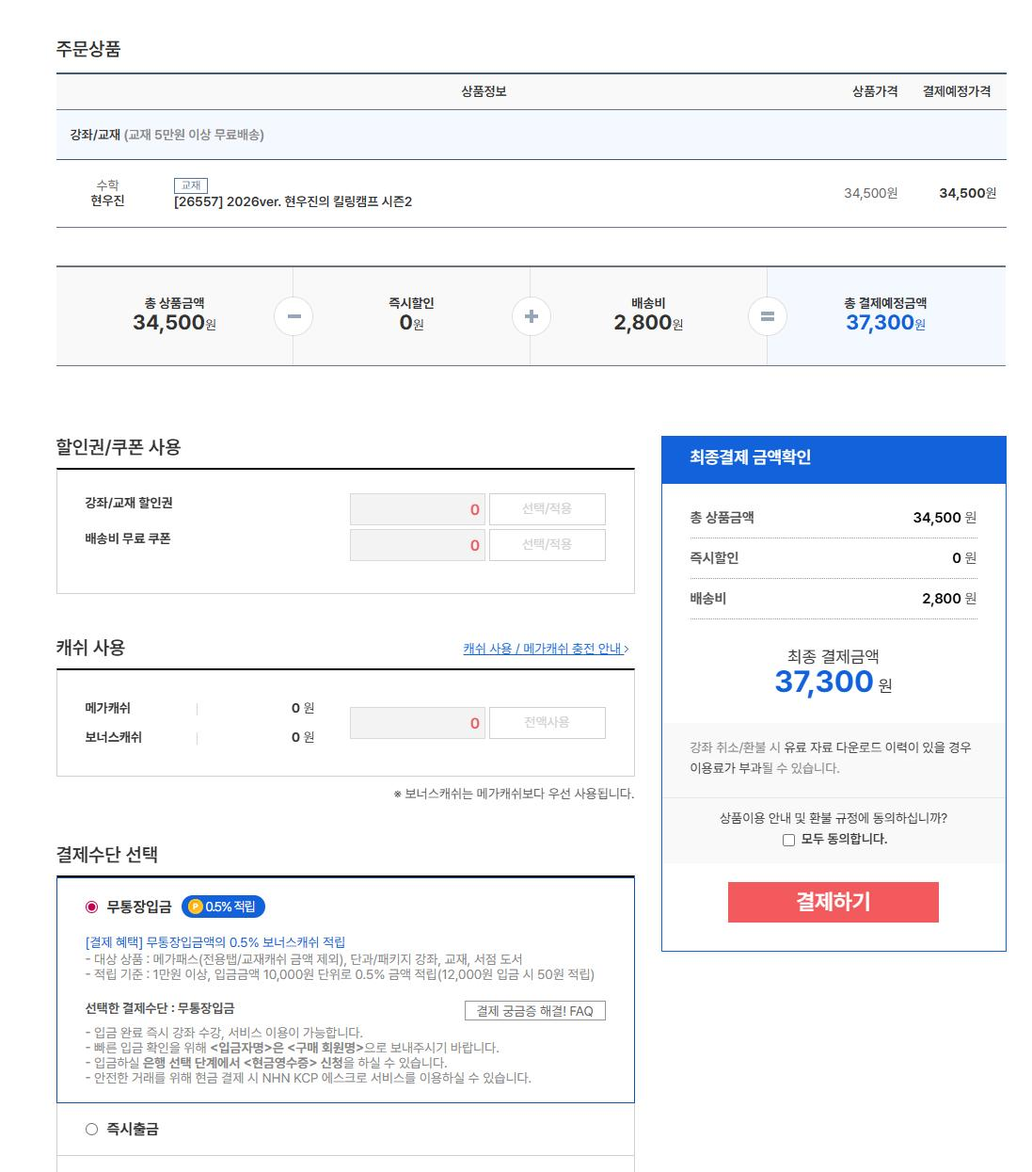button: (729, 879, 952, 923), (484, 491, 608, 527), (489, 530, 608, 565), (489, 704, 610, 736), (463, 639, 632, 661), (467, 1007, 608, 1018)
checkbox: (80, 1117, 165, 1142), (784, 828, 887, 847)
